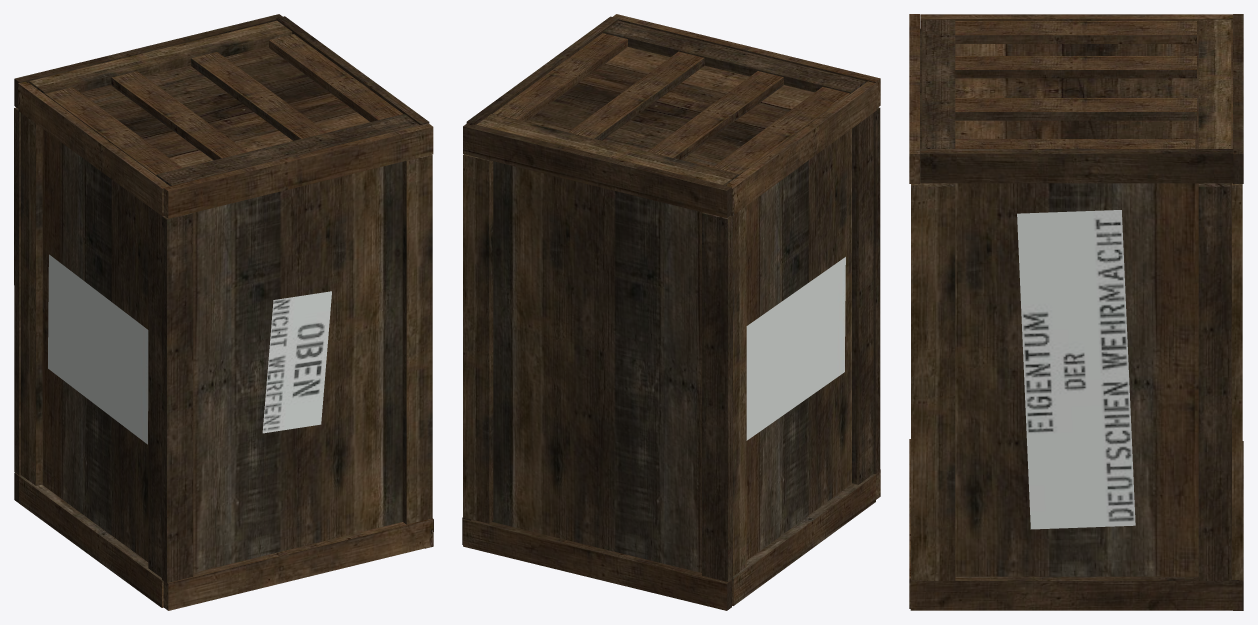
Rendered from prop_crate_wehrmacht2a_wet.glb.
The picture shows the model from 3 angles, left to right: view 1: azimuth 30°, elevation 25°; view 2: azimuth 150°, elevation 25°; view 3: azimuth 270°, elevation 25°; orthographic projection. The views are drawn at different scales.
Size of the model in its own units: 32.12 by 48.32 by 31.96.
2 materials, 2 textured.
